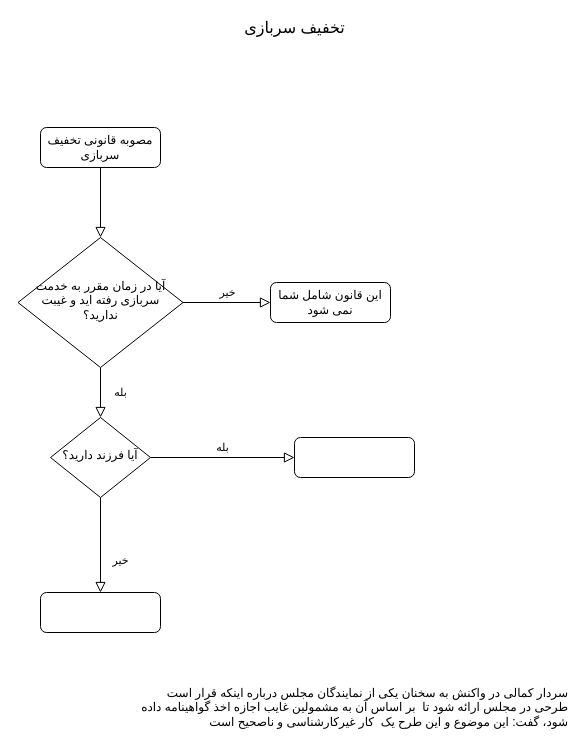
Some shapes in this 587 by 746 pixel diagram are drawn without their labels. Each missing label, with the box of its shape:
به ازای هر فرزند از دو ماه کسر خدمت برخوردار می شوید: (294, 436, 414, 478)
شما شامل کسر خدمت نمی شوید: (40, 592, 160, 632)
